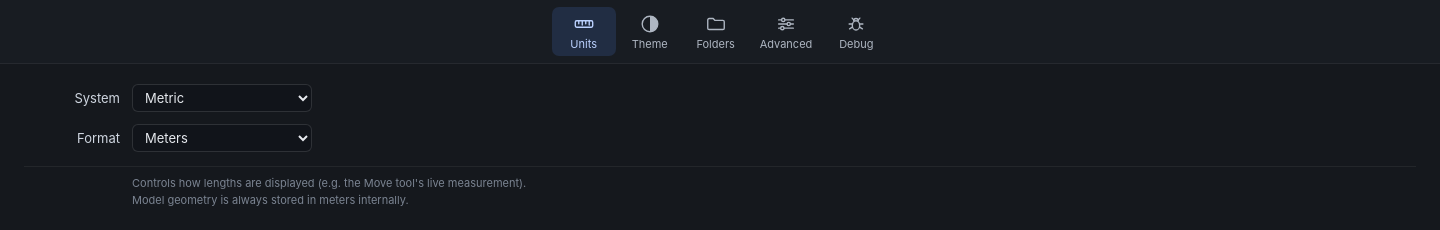
SettingsWindow › returns to the Units pane when the Units tab is clicked after switching
This screenshot has width=1440, height=230.
Click the tab "Debug" at (856, 32), box 824,7 -> 888,56
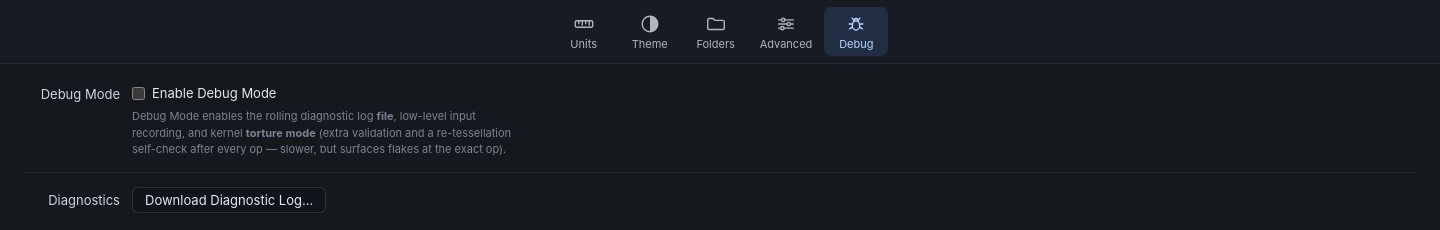
Click the tab "Units" at (584, 32), box 552,7 -> 616,56
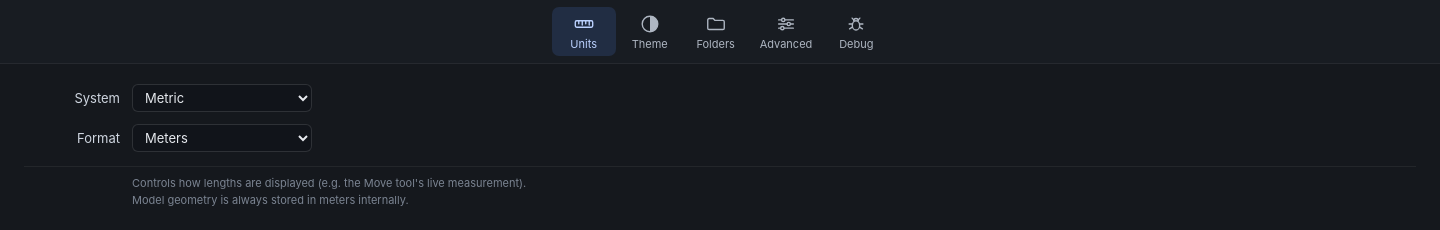
Expected: the text "System" is shown, 74,90 -> 120,106
Expected: the checkbox is gone
